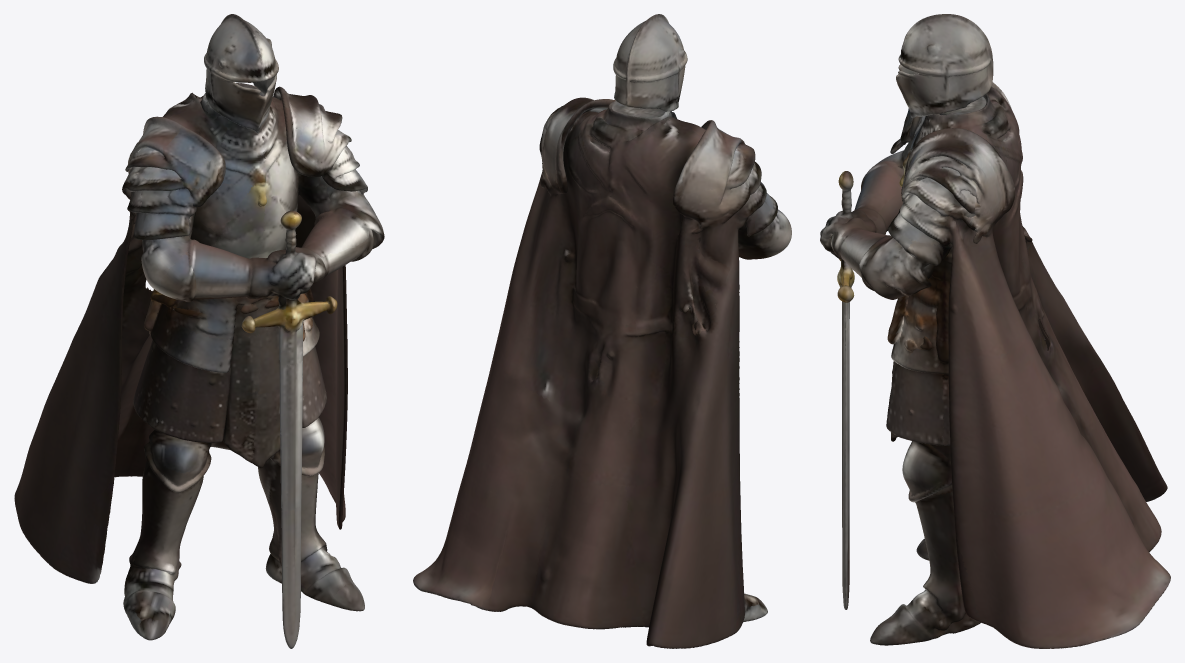
Rendered from zakon.glb.
The picture shows the model from 3 angles, left to right: view 1: azimuth 30°, elevation 25°; view 2: azimuth 150°, elevation 25°; view 3: azimuth 270°, elevation 25°; orthographic projection.
Visible parts, largest first — view 1: tripo_node_1c92ea9b-38c0-45a1-b882-71ff96072fa3; view 2: tripo_node_1c92ea9b-38c0-45a1-b882-71ff96072fa3; view 3: tripo_node_1c92ea9b-38c0-45a1-b882-71ff96072fa3.
Boxes of the visible parts, box(x1,y1,x2,y2) form: tripo_node_1c92ea9b-38c0-45a1-b882-71ff96072fa3: box(14, 14, 384, 648); tripo_node_1c92ea9b-38c0-45a1-b882-71ff96072fa3: box(413, 14, 791, 648); tripo_node_1c92ea9b-38c0-45a1-b882-71ff96072fa3: box(820, 14, 1170, 648).
Size of the model in its own units: 0.5225 by 1 by 0.5338.
1 material, 1 textured.
